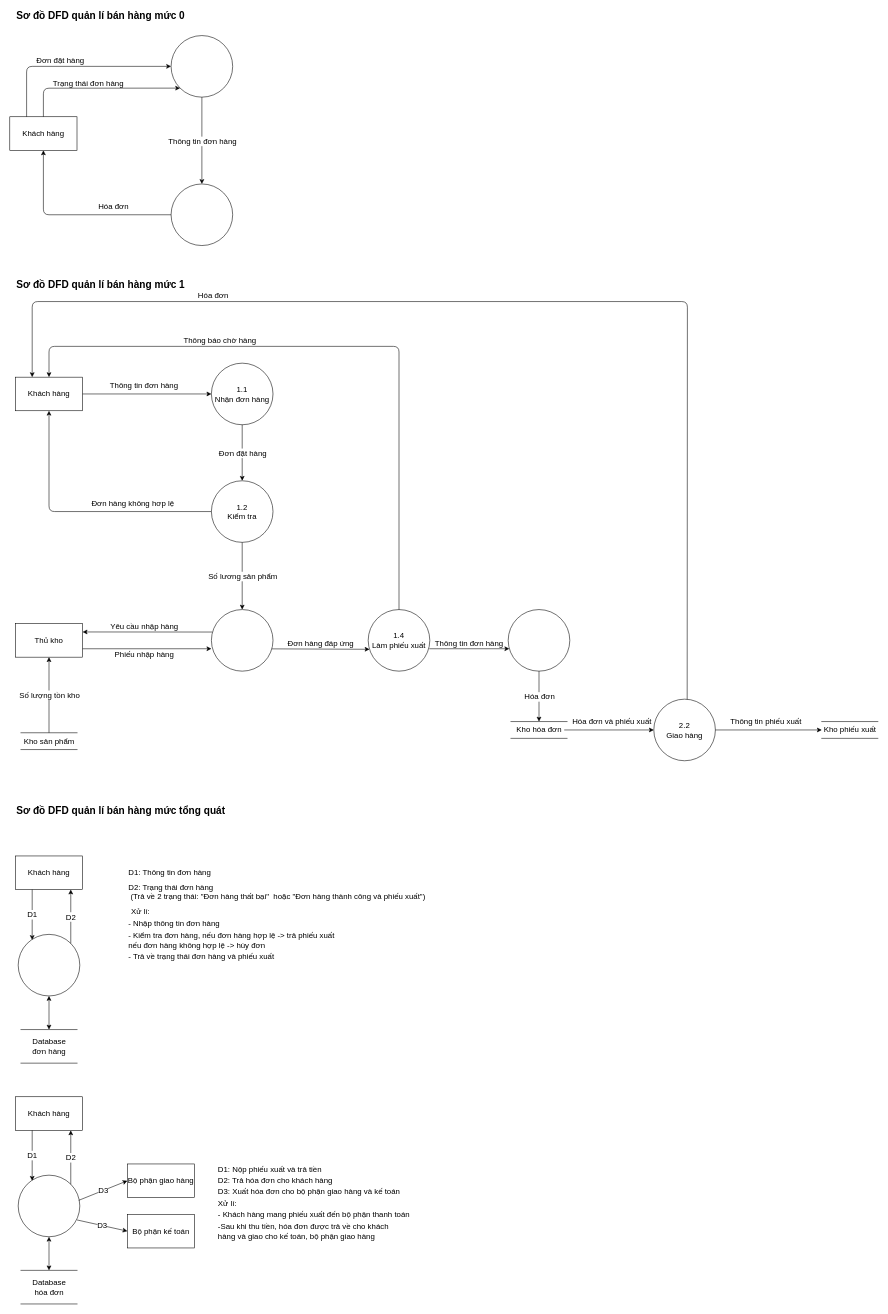
The diagram is 888 pixels wide and 1314 high, and some of its shapes have lost their labels. The centre of each missing label's shape, as x and y in pixels:
1.0 Bán hàng: (202,66)
1.3 Nhập hàng: (242,640)
2.0 Thanh toán: (202,214)
2.1 Thanh toán: (539,640)
Bán hàng: (49,965)
Thanh toán: (49,1206)
